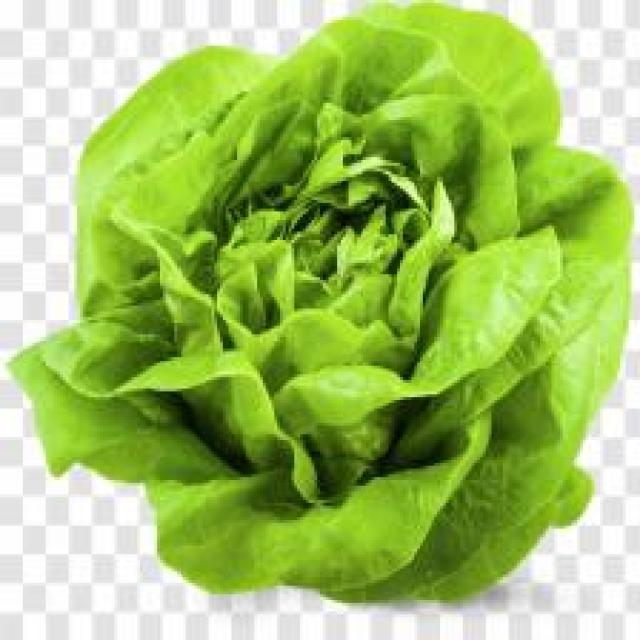Lettuce: (7, 0, 632, 605)
